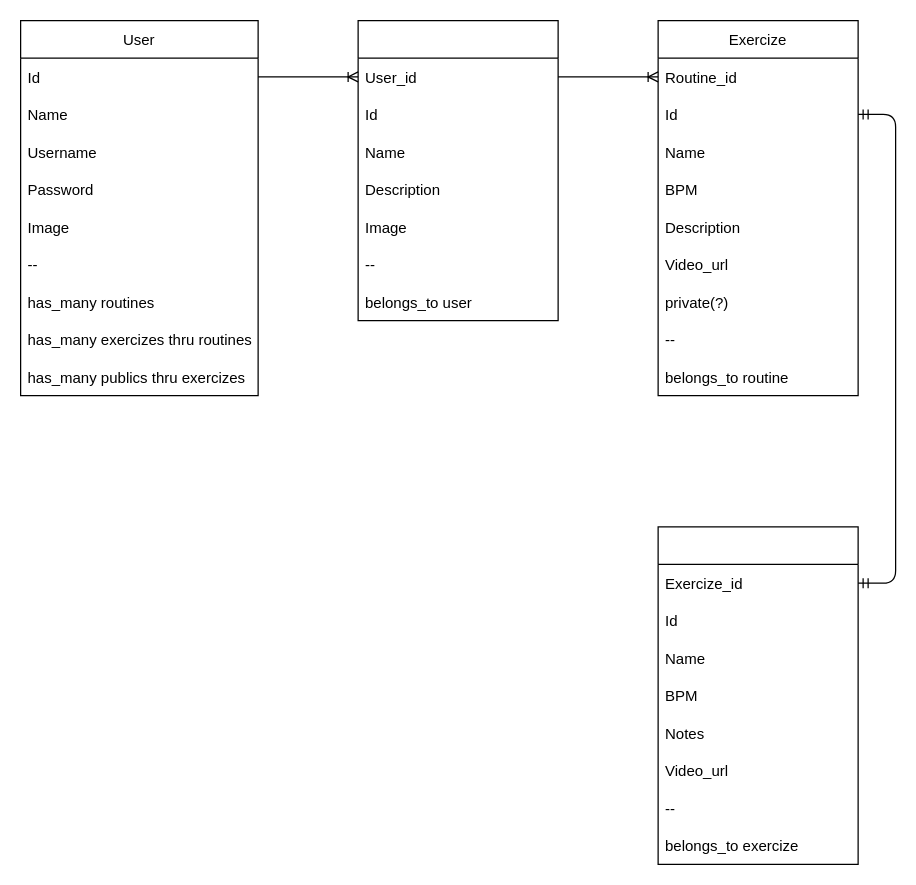
This 916x885 diagram has some shape labels left out. The shapes that lost their labels are listed below. From the top down, each one's box as (x1, y1, x2, y2) in pixels, then its label:
(357, 19, 558, 321): Routine
(657, 526, 858, 864): PublicExercize
